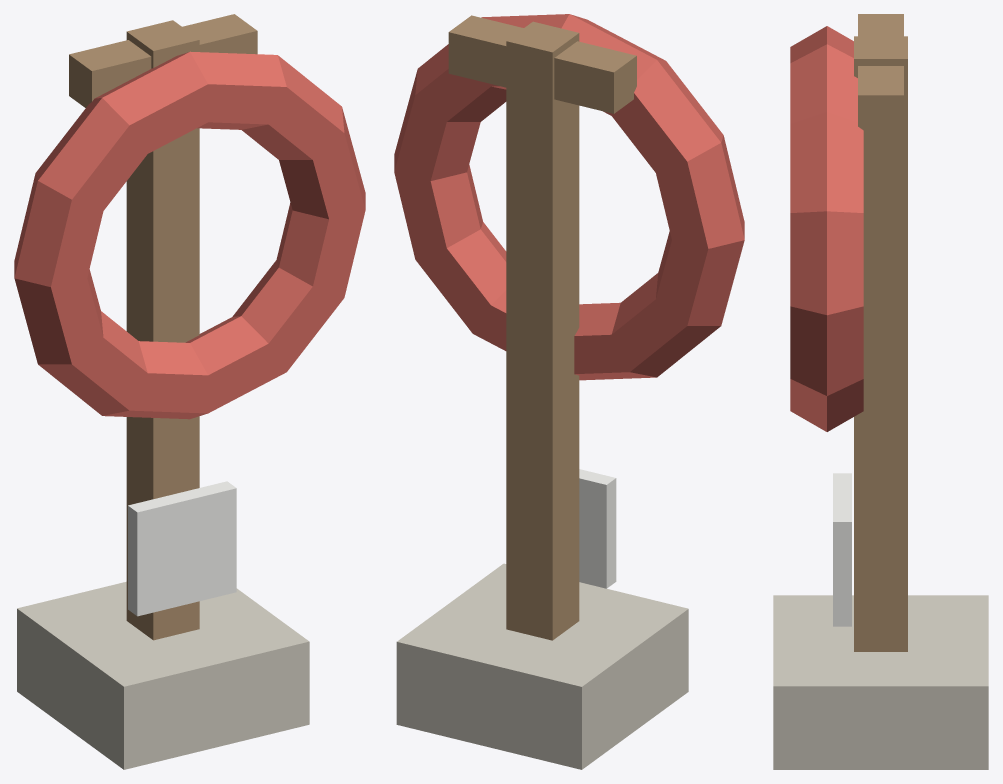
Rendered from lighthouse-and-rocky-coast-life-ring-post-316f3ab9__36634.glb.
3 views of the same model, side by side, from view 1: azimuth 30°, elevation 25°; view 2: azimuth 150°, elevation 25°; view 3: azimuth 270°, elevation 25° (orthographic).
Visible parts, largest first — view 1: life-ring-post; view 2: life-ring-post; view 3: life-ring-post.
Boxes of the visible parts, box(x1,y1,x2,y2) form: life-ring-post: box(14, 14, 365, 769); life-ring-post: box(394, 14, 744, 769); life-ring-post: box(773, 14, 988, 769).
Bounding box in the file's own units: 1.06 × 1.95 × 0.56.
